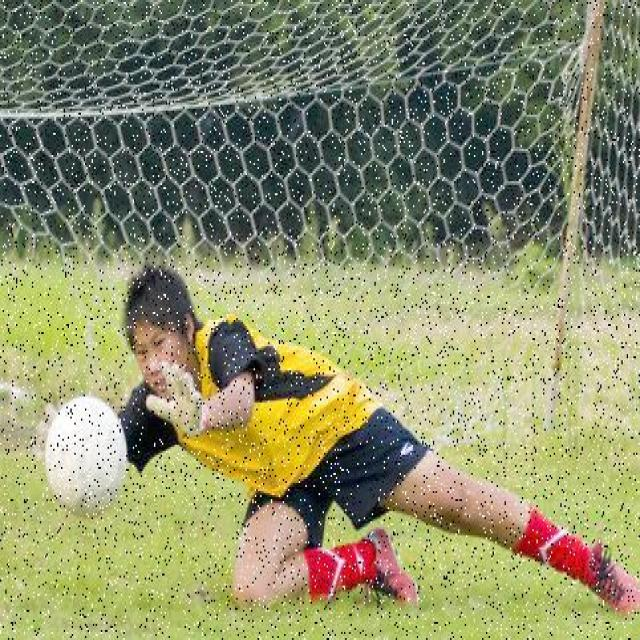fall: (110, 278, 628, 606)
